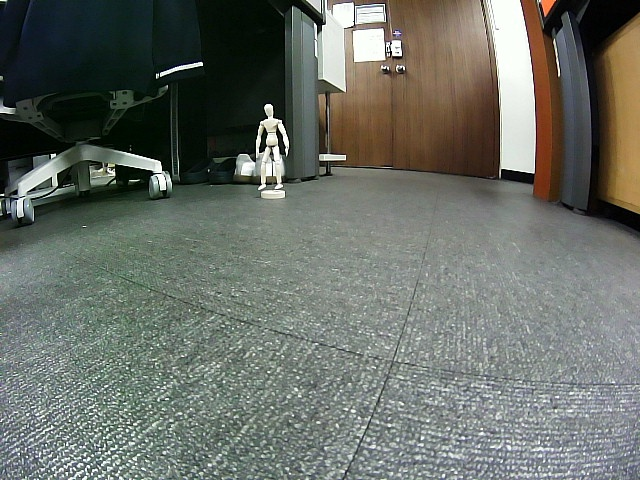person: (256, 102, 289, 190)
